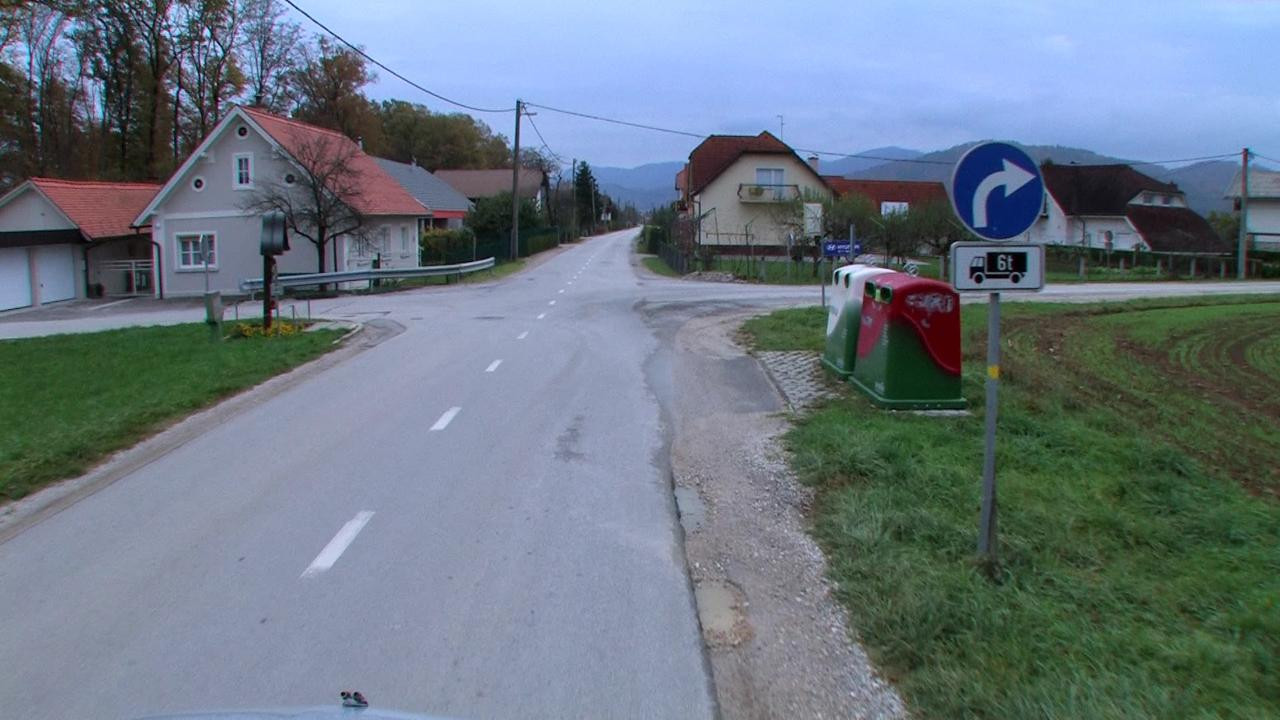Rectangle: (952, 244, 1046, 294)
Round: (950, 141, 1044, 243)
